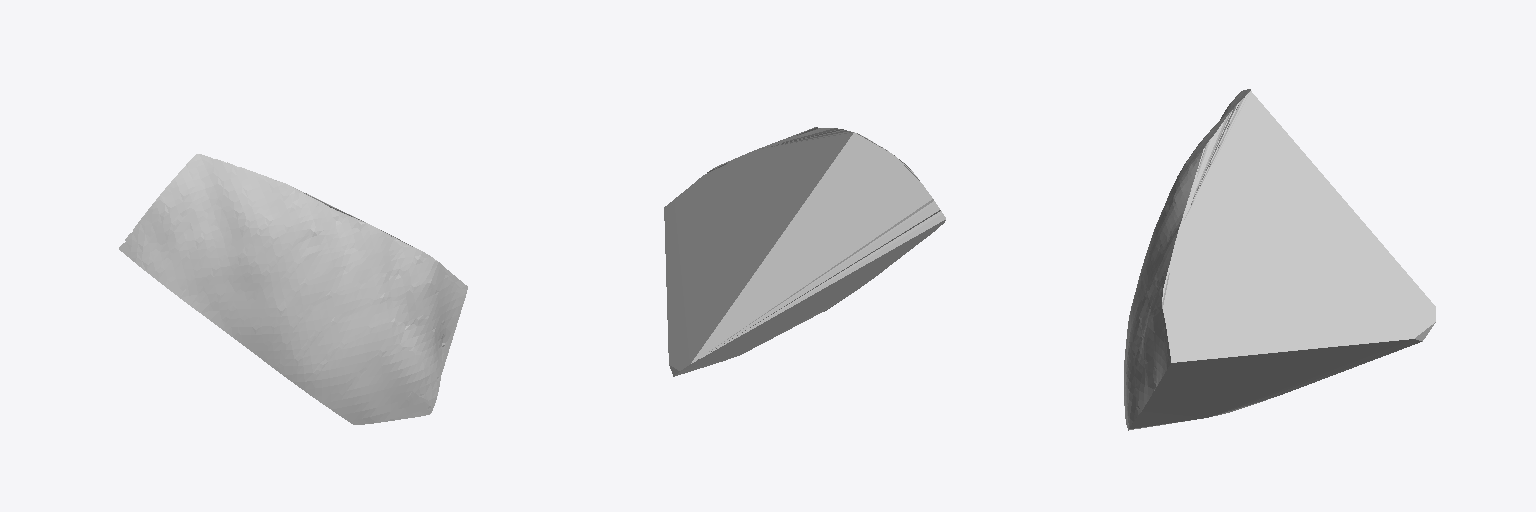
The model's file is low_cell_015.obj.
The picture shows the model from 3 angles: view 1: azimuth 30°, elevation 25°; view 2: azimuth 150°, elevation 25°; view 3: azimuth 270°, elevation 25°; orthographic projection.
Visible parts, largest first — view 1: low_cell.015_low_cell.014; view 2: low_cell.015_low_cell.014; view 3: low_cell.015_low_cell.014.
Boxes of the visible parts, x1=… form: low_cell.015_low_cell.014: x1=119, y1=154, x2=467, y2=424; low_cell.015_low_cell.014: x1=664, y1=127, x2=945, y2=376; low_cell.015_low_cell.014: x1=1124, y1=89, x2=1435, y2=430.
Bounding box in the file's own units: 0.8599 × 0.6786 × 0.7366.